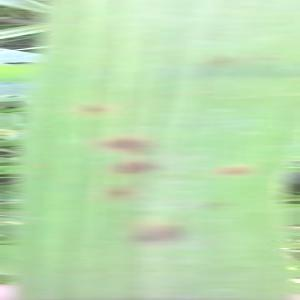0 BrownSpot: (115, 215, 200, 249), (91, 130, 165, 155), (106, 158, 167, 178), (193, 195, 244, 214), (201, 51, 246, 68), (214, 162, 254, 180), (75, 99, 112, 117), (103, 185, 140, 202)
